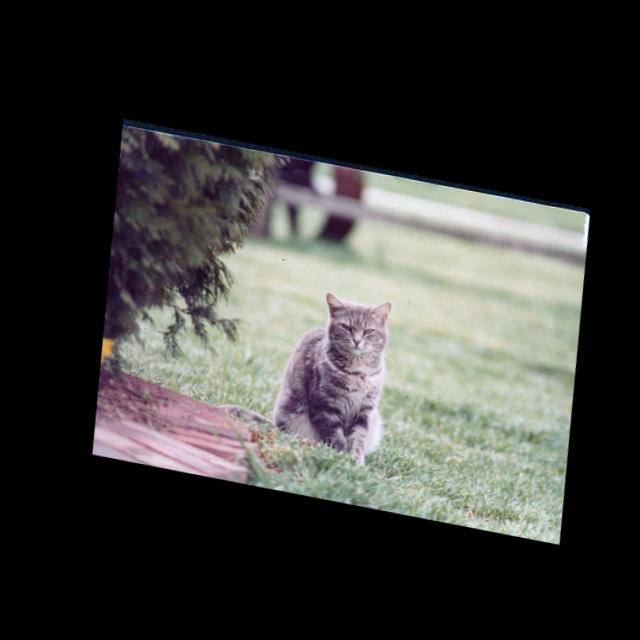animals: (317, 287, 388, 347)
